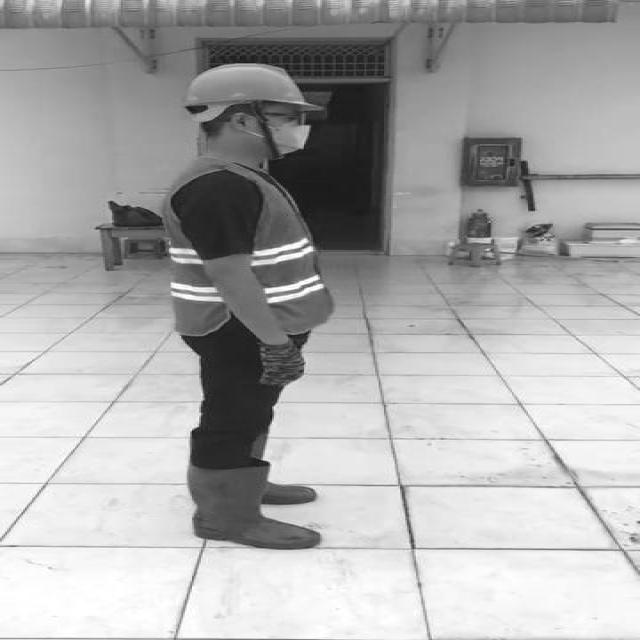boots: (185, 466, 316, 551)
face_mask: (261, 107, 320, 157)
hand_glove: (252, 338, 306, 387)
head_helmet: (180, 61, 326, 113)
person: (160, 59, 357, 552)
vest: (160, 162, 329, 334)
